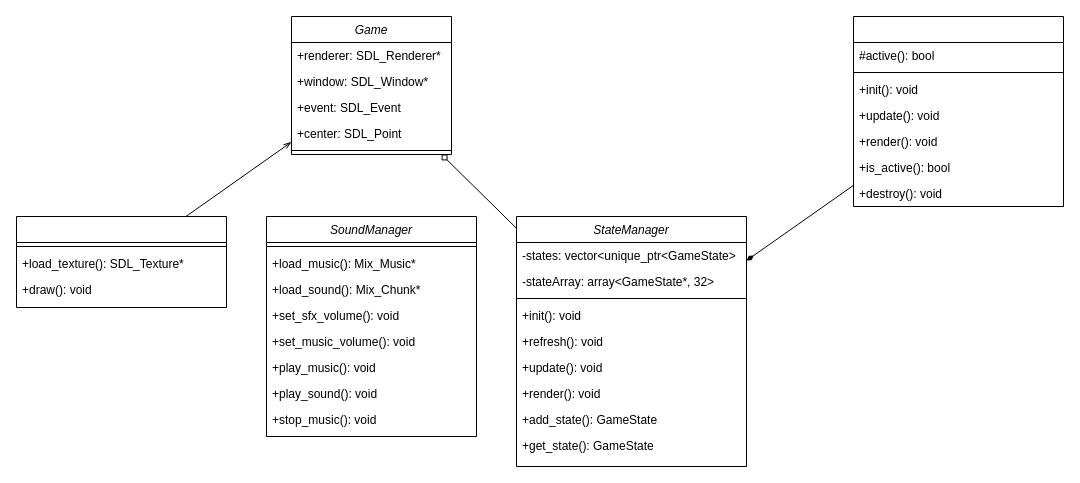
This 1080x483 diagram has some shape labels left out. Each missing label, with the box of its shape:
GameState: (852, 16, 1064, 206)
TextureManager: (16, 216, 226, 308)
